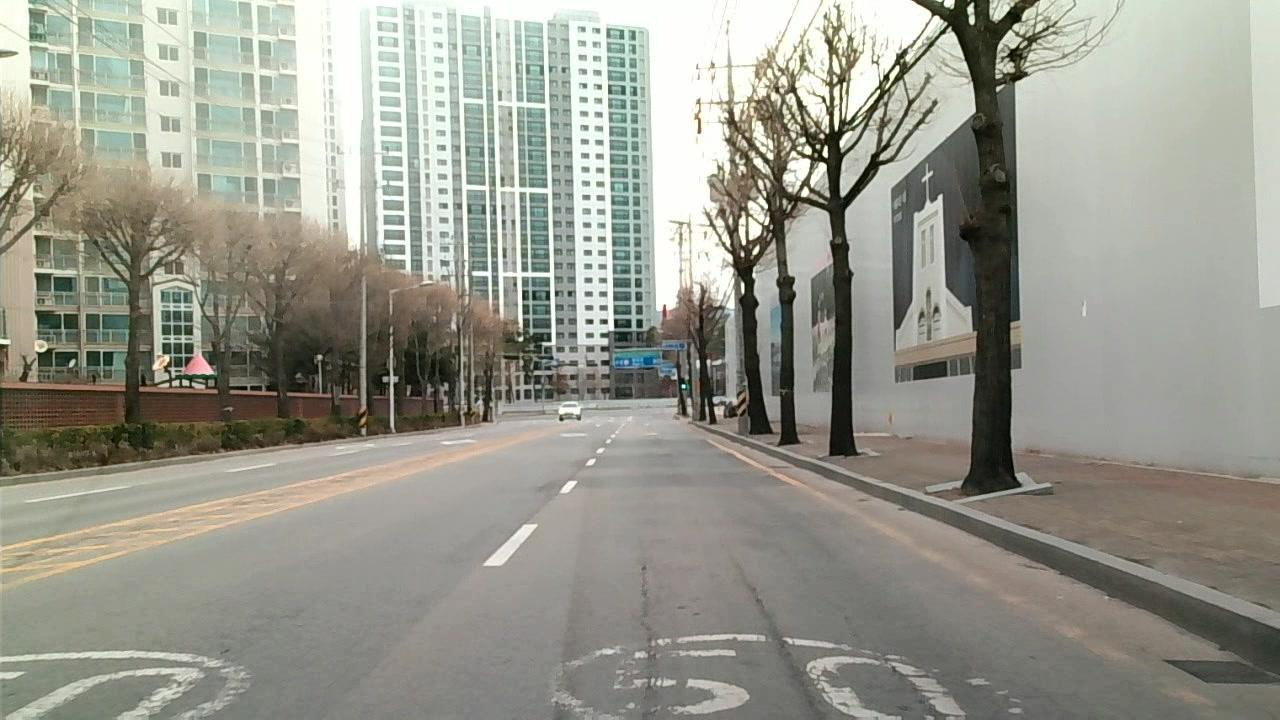vcrack: (740, 566, 814, 719), (855, 630, 936, 716), (635, 553, 662, 720)
